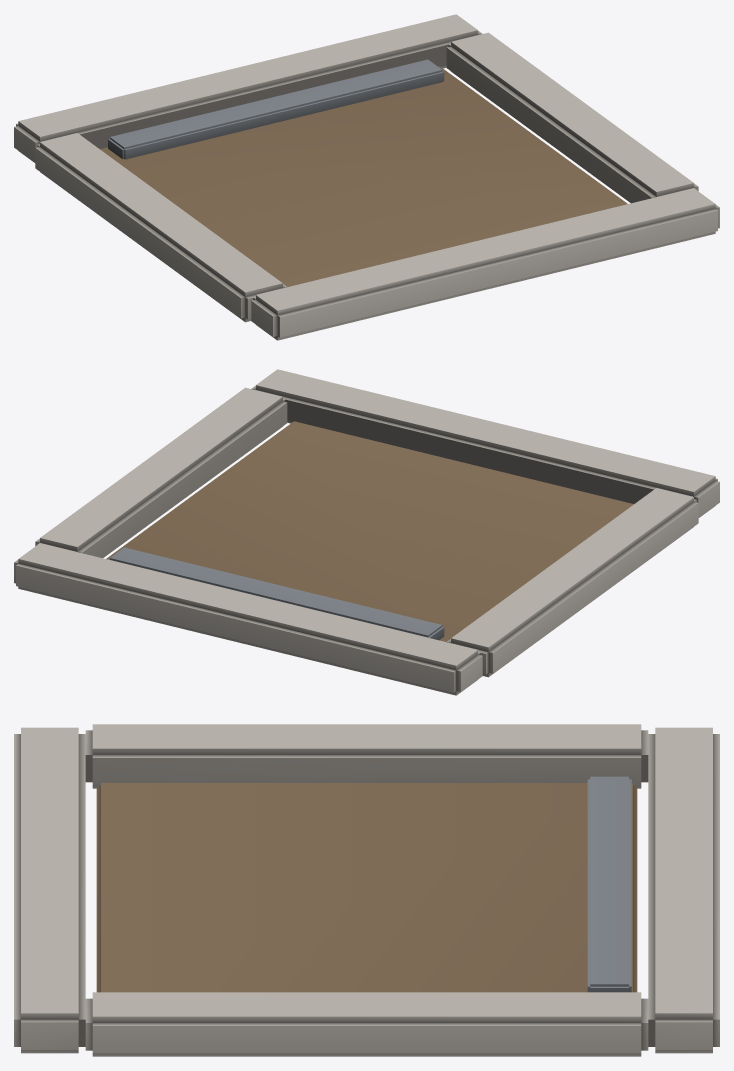
Rendered from hidden_proctor_trapdoor_lod0.glb.
The picture shows the model from 3 angles, top to bottom: view 1: azimuth 30°, elevation 25°; view 2: azimuth 150°, elevation 25°; view 3: azimuth 270°, elevation 25°; orthographic projection. The views are drawn at different scales.
Visible parts, largest first — view 1: hidden_proctor_trapdoor; view 2: hidden_proctor_trapdoor; view 3: hidden_proctor_trapdoor.
Boxes of the visible parts, x1,y1,x2,y2 form: hidden_proctor_trapdoor: (14,14,719,340); hidden_proctor_trapdoor: (14,369,719,695); hidden_proctor_trapdoor: (14,724,719,1056).
Bounding box in the file's own units: 2.56 × 0.16 × 2.56.
